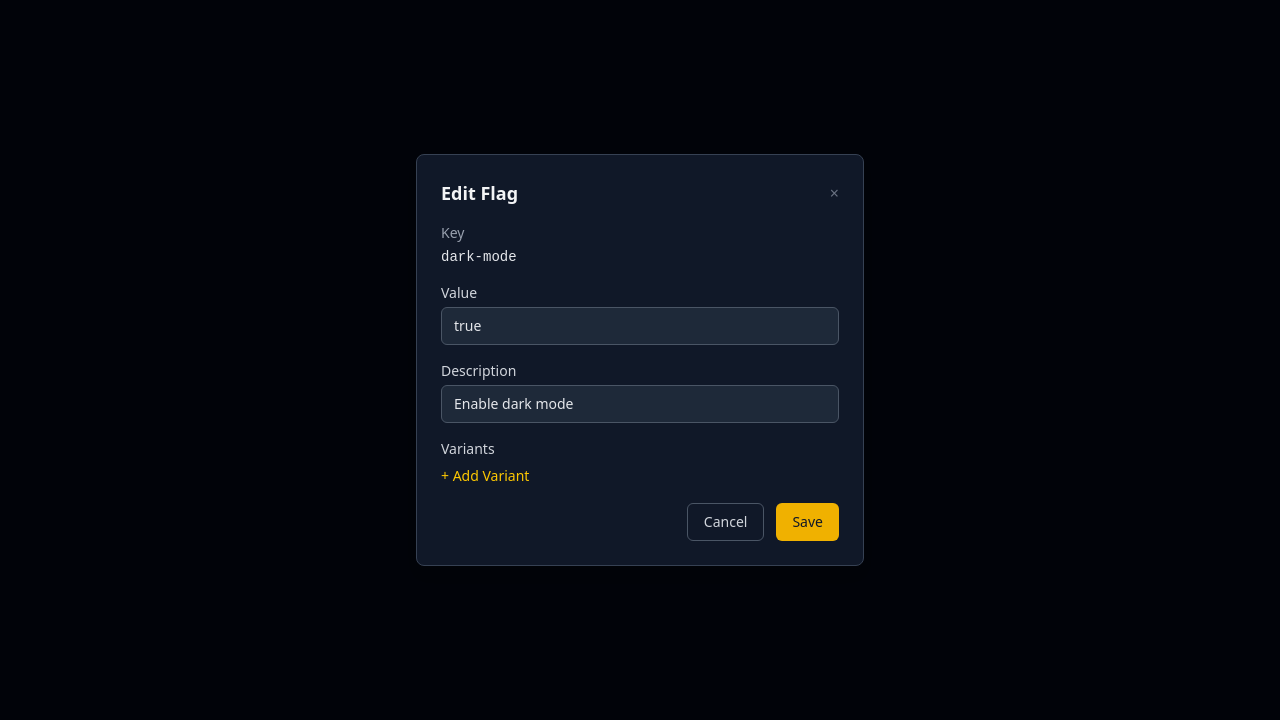
Test: EditFlagModal › shows validation error for empty value
Clear the field labelled "Value" at {"x": 640, "y": 326}, box top-left (441, 307), bottom-right (839, 345)
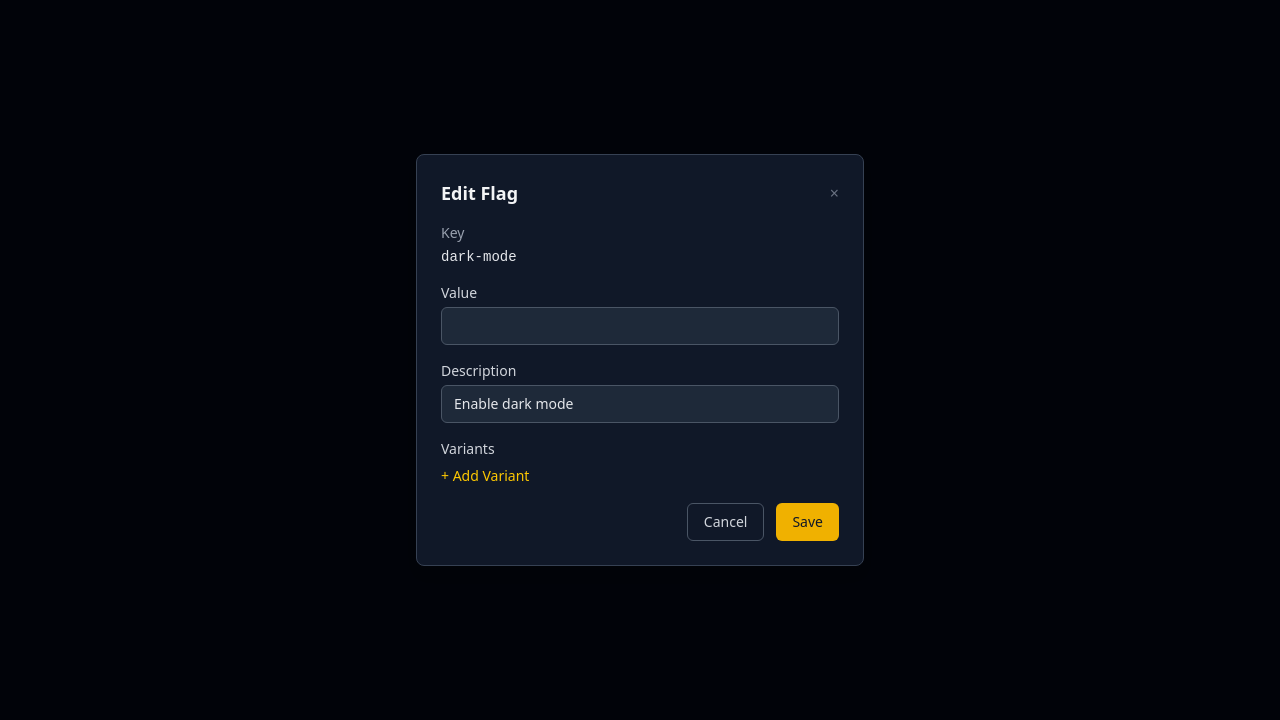
Click the button "Save" at {"x": 808, "y": 522}, box top-left (776, 503), bottom-right (839, 541)
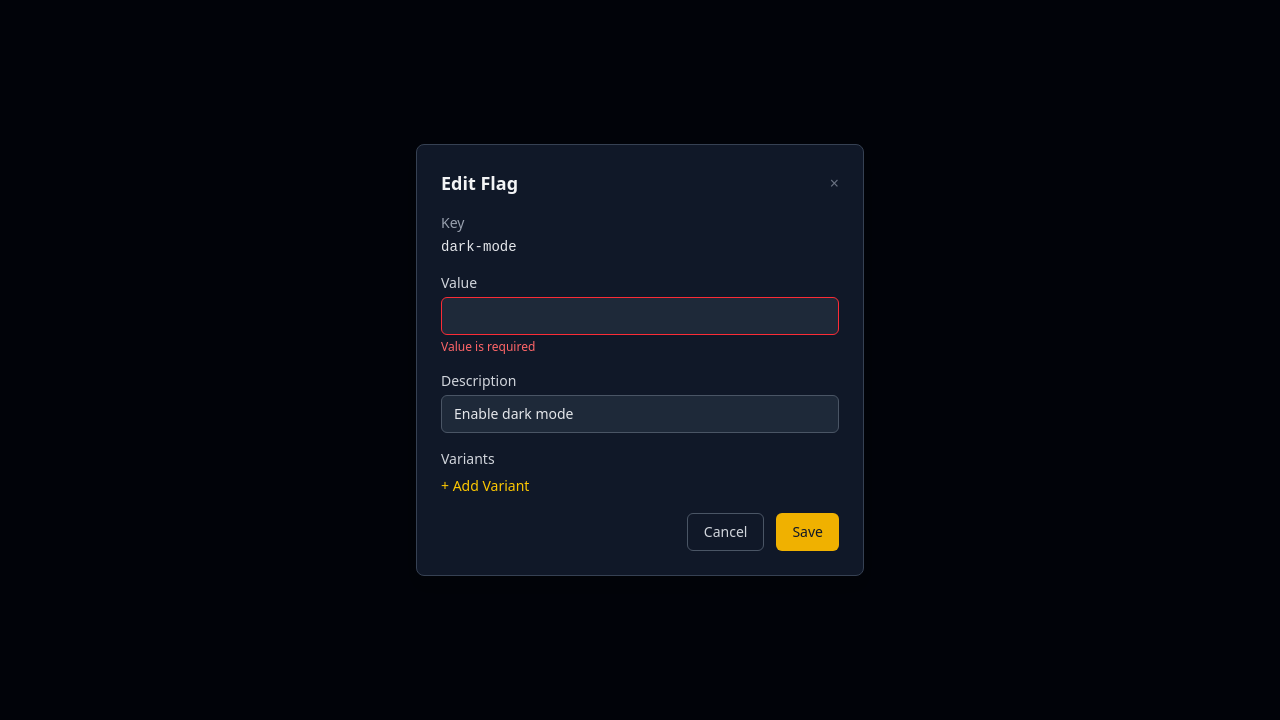
Expected: the list item "Value is required" is shown, top-left (441, 338), bottom-right (535, 355)
